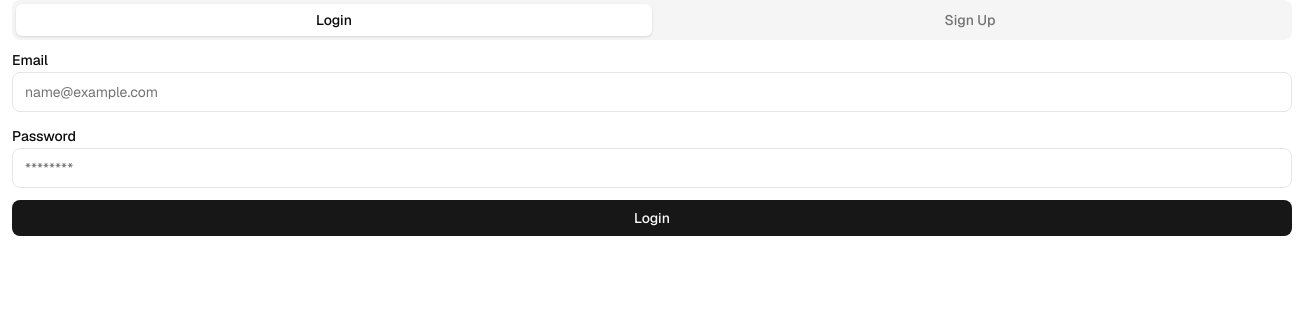
Scenario: LocalAuthTabs › clears validation errors when switching tabs
This screenshot has width=1304, height=329.
# Trigger errors on login tab
Step 1. Click the button "Login" → (652, 218), box [12,200,1292,236]
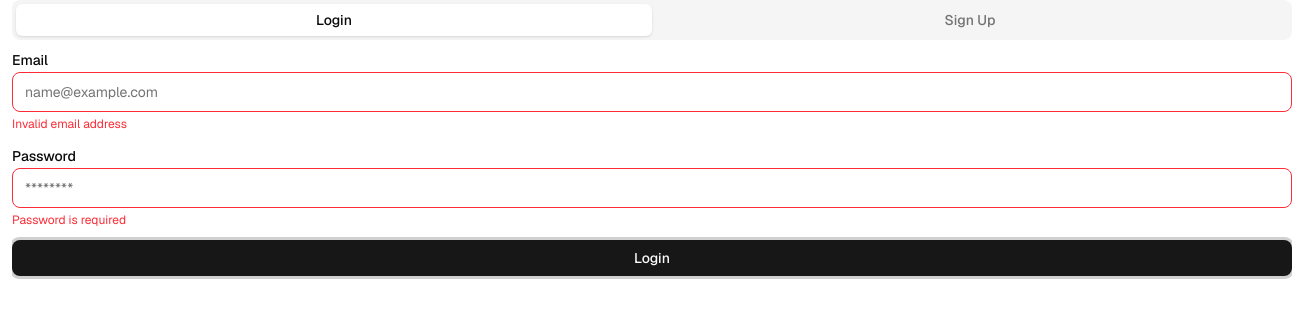
Check: the text "Invalid email address" is shown, box [12,116,127,132]
# Switch to signup tab
Step 2. Click the tab "Sign Up" → (970, 20), box [652,4,1288,36]
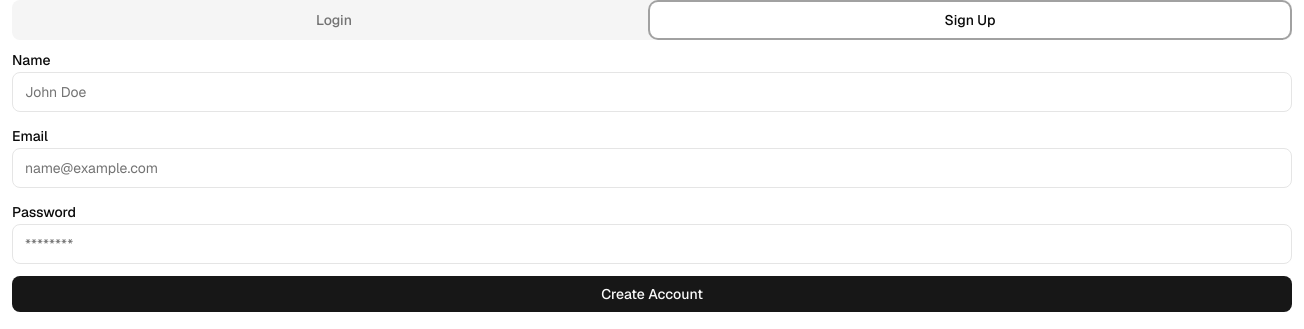
Check: the text "Invalid email" is gone
